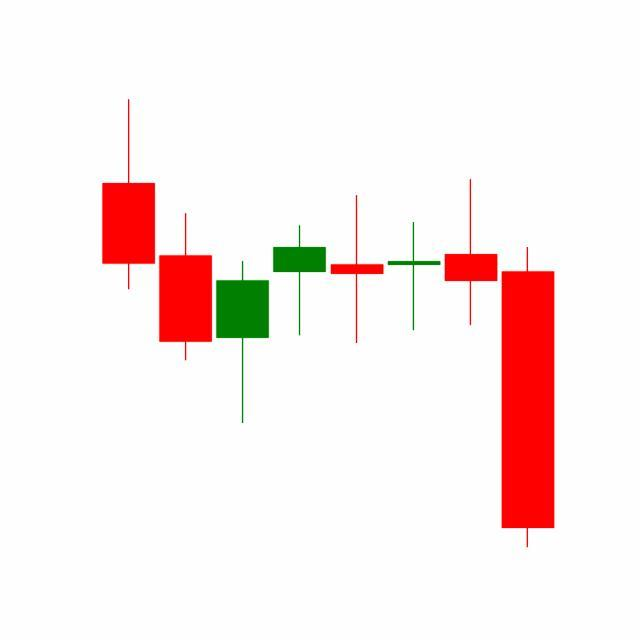Hikkake Pattern: (214, 177, 501, 427)
